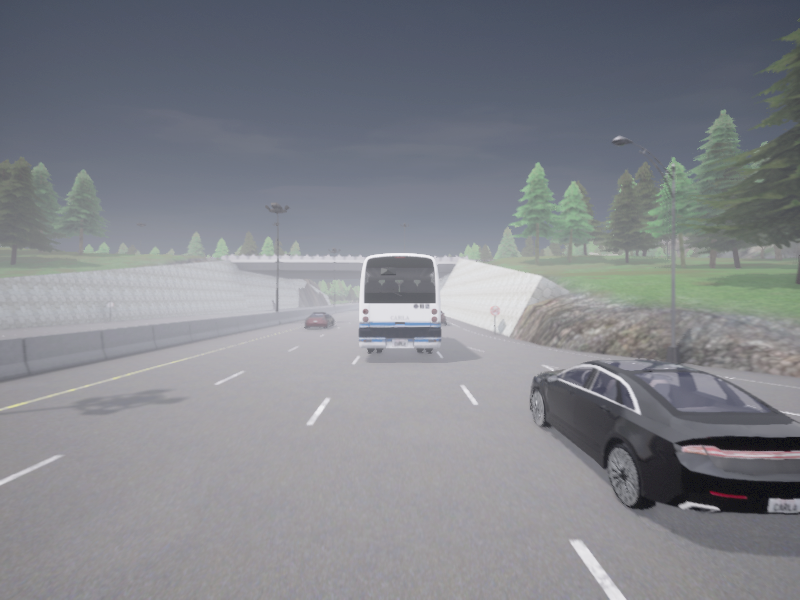vehicle: (530, 359, 799, 513), (359, 253, 440, 352), (305, 312, 334, 327), (441, 311, 447, 324)
